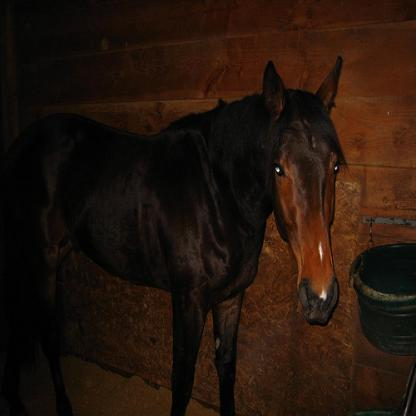horse: (0, 52, 344, 415)
